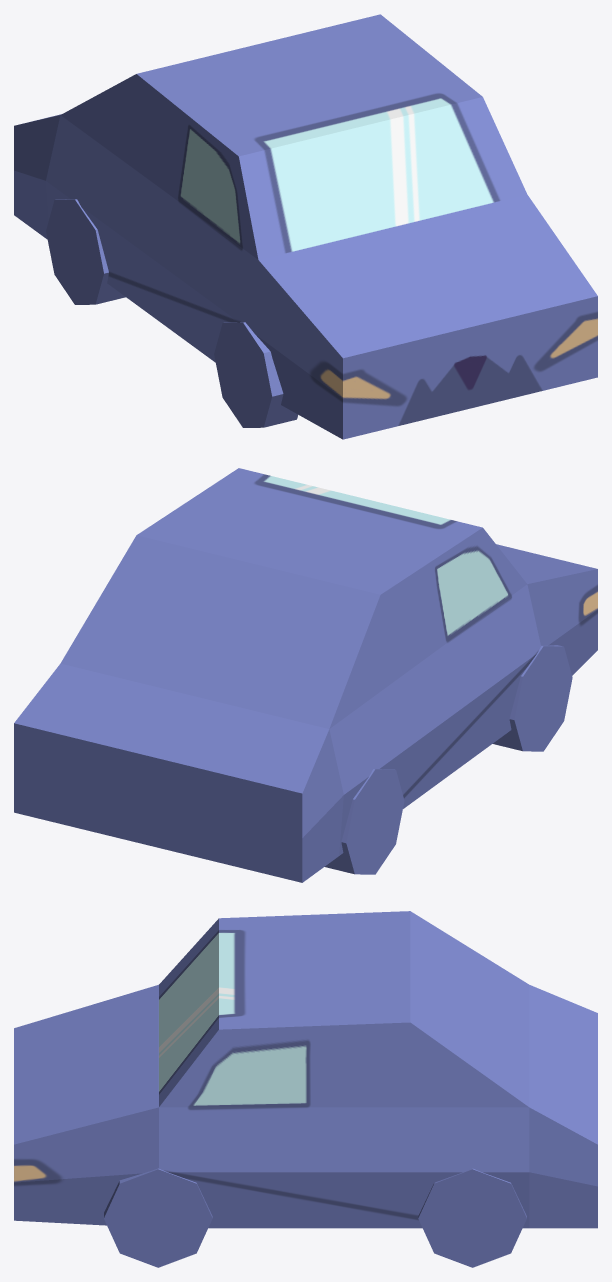
The model's file is Car.fbx.
3 views of the same model, one above another, from view 1: azimuth 30°, elevation 25°; view 2: azimuth 150°, elevation 25°; view 3: azimuth 270°, elevation 25° (orthographic). The views are drawn at different scales.
Visible parts, largest first — view 1: Cube.004, Cube.005; view 2: Cube.004, Cube.005; view 3: Cube.004, Cube.005.
Part boxes in pixels (left/top/right/bottom): Cube.004: left=14, top=14, right=597, bottom=439; Cube.005: left=46, top=199, right=297, bottom=427; Cube.004: left=14, top=468, right=597, bottom=882; Cube.005: left=324, top=645, right=572, bottom=874; Cube.004: left=14, top=911, right=597, bottom=1228; Cube.005: left=104, top=1168, right=526, bottom=1267.
Size of the model in its own units: 208 by 165 by 375.
